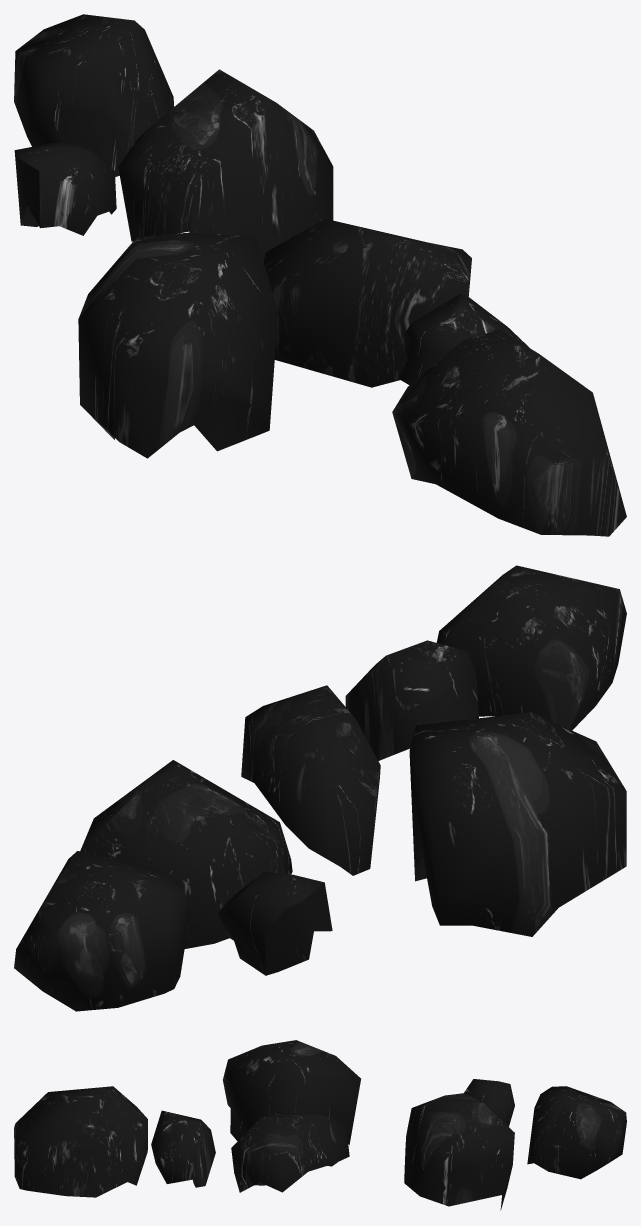
File: Stone.FBX
The picture shows the model from 3 angles, top to bottom: view 1: azimuth 30°, elevation 25°; view 2: azimuth 150°, elevation 25°; view 3: azimuth 270°, elevation 25°; orthographic projection. The views are drawn at different scales.
Visible parts, largest first — view 1: Rock_05_Coll; view 2: Rock_05_Coll; view 3: Rock_05_Coll.
Boxes of the visible parts, bbox=[...] form: Rock_05_Coll: bbox=[14, 14, 626, 536]; Rock_05_Coll: bbox=[14, 565, 626, 1011]; Rock_05_Coll: bbox=[14, 1040, 626, 1210].
Size of the model in its own units: 0.2677 by 0.1354 by 0.6665.
